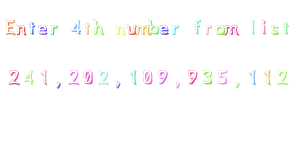,: (173, 76, 183, 93), (112, 78, 125, 91), (232, 78, 243, 93), (54, 78, 64, 93)
0: (141, 67, 155, 90), (81, 67, 96, 87)
1: (37, 65, 53, 88), (245, 67, 260, 88), (126, 67, 140, 88), (260, 69, 275, 88)
2: (5, 64, 21, 89), (276, 66, 292, 90), (97, 68, 113, 87), (66, 66, 81, 86)
3: (201, 65, 215, 89)
4: (68, 15, 83, 38), (24, 68, 36, 87)
5: (216, 67, 230, 88)
9: (156, 65, 171, 91), (186, 66, 200, 90)
E: (2, 14, 16, 39)
e: (37, 19, 48, 39), (159, 22, 169, 39)
f: (191, 14, 202, 35)
h: (92, 17, 105, 37)
i: (258, 17, 269, 38)
l: (246, 15, 259, 37)
m: (225, 20, 241, 40), (136, 21, 149, 39)
n: (15, 21, 27, 38), (114, 21, 125, 39)
o: (214, 24, 227, 35)
r: (170, 21, 184, 37), (48, 22, 61, 38), (204, 20, 213, 39)
s: (270, 21, 281, 38)
t: (281, 17, 292, 38), (27, 16, 37, 38), (83, 19, 93, 36)
u: (125, 16, 137, 39)
w: (148, 17, 158, 37)
